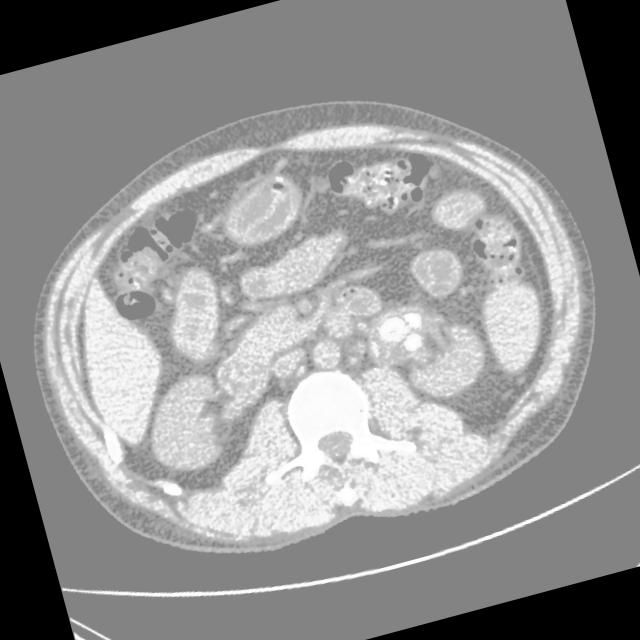STONE: (67, 65, 596, 476)
